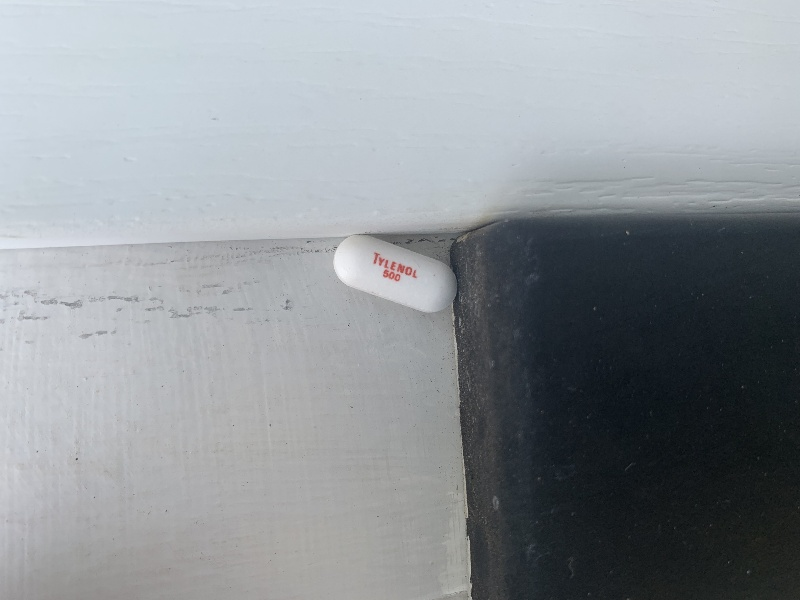Tylenol: (329, 230, 460, 318)
